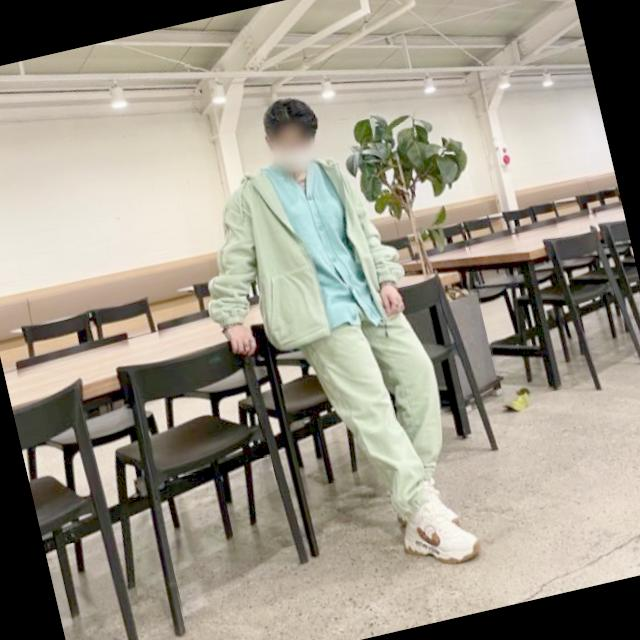cardigan: (269, 148, 382, 336)
trainingpants: (286, 290, 464, 536)
zipup: (179, 135, 415, 365)
